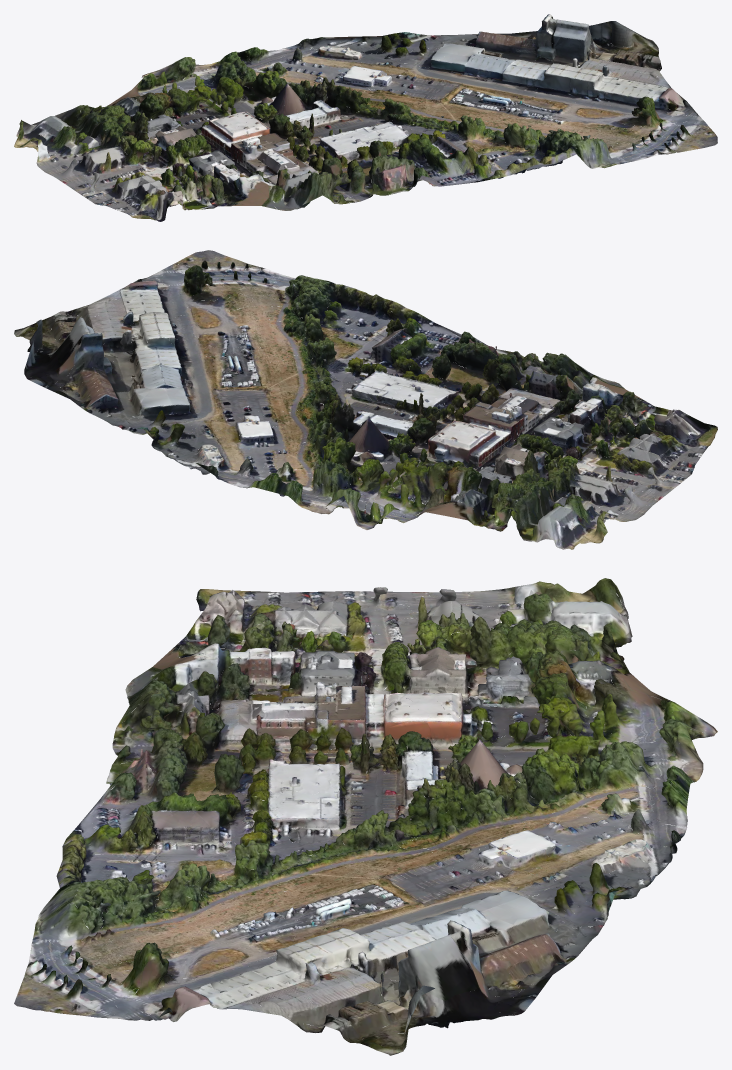
File: university.glb
3 renders of one model, top to bottom at view 1: azimuth 30°, elevation 25°; view 2: azimuth 150°, elevation 25°; view 3: azimuth 270°, elevation 25°, orthographic. The views are drawn at different scales.
Parts seen in each view (by area): view 1: Node_0; view 2: Node_0; view 3: Node_0.
Boxes of the visible parts, bbox=[...] form: Node_0: bbox=[14, 14, 717, 221]; Node_0: bbox=[14, 250, 717, 549]; Node_0: bbox=[14, 578, 717, 1055].
Bounding box in the file's own units: 489 × 32.07 × 314.
Materials: 1 (1 with a texture image).
